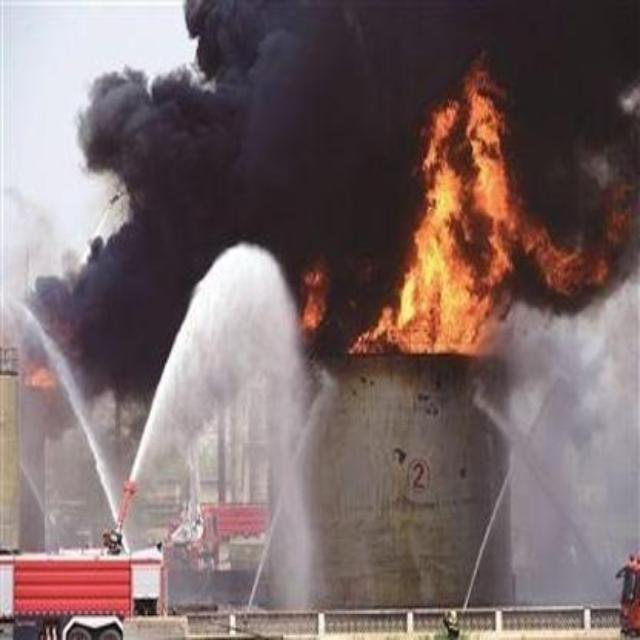Fire: (405, 48, 519, 358), (530, 228, 630, 302), (26, 318, 72, 390), (352, 304, 400, 360), (298, 261, 332, 333)
Smoke: (188, 0, 390, 292), (84, 68, 192, 404), (530, 1, 628, 225), (401, 2, 521, 46), (22, 264, 76, 312)
